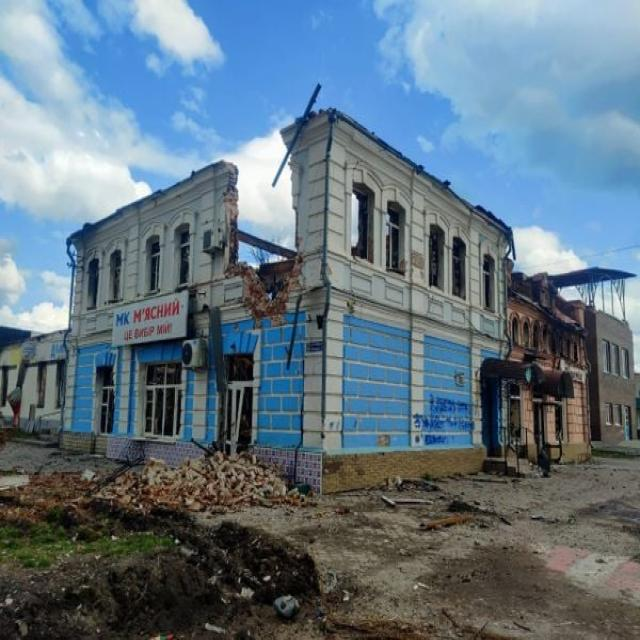broken_window: (143, 360, 182, 438), (350, 181, 374, 263), (385, 199, 405, 273), (428, 222, 445, 290), (450, 234, 466, 298), (144, 233, 160, 293), (175, 224, 190, 288), (106, 247, 122, 303), (482, 252, 496, 311), (86, 256, 100, 310)
building: (58, 102, 516, 494)
